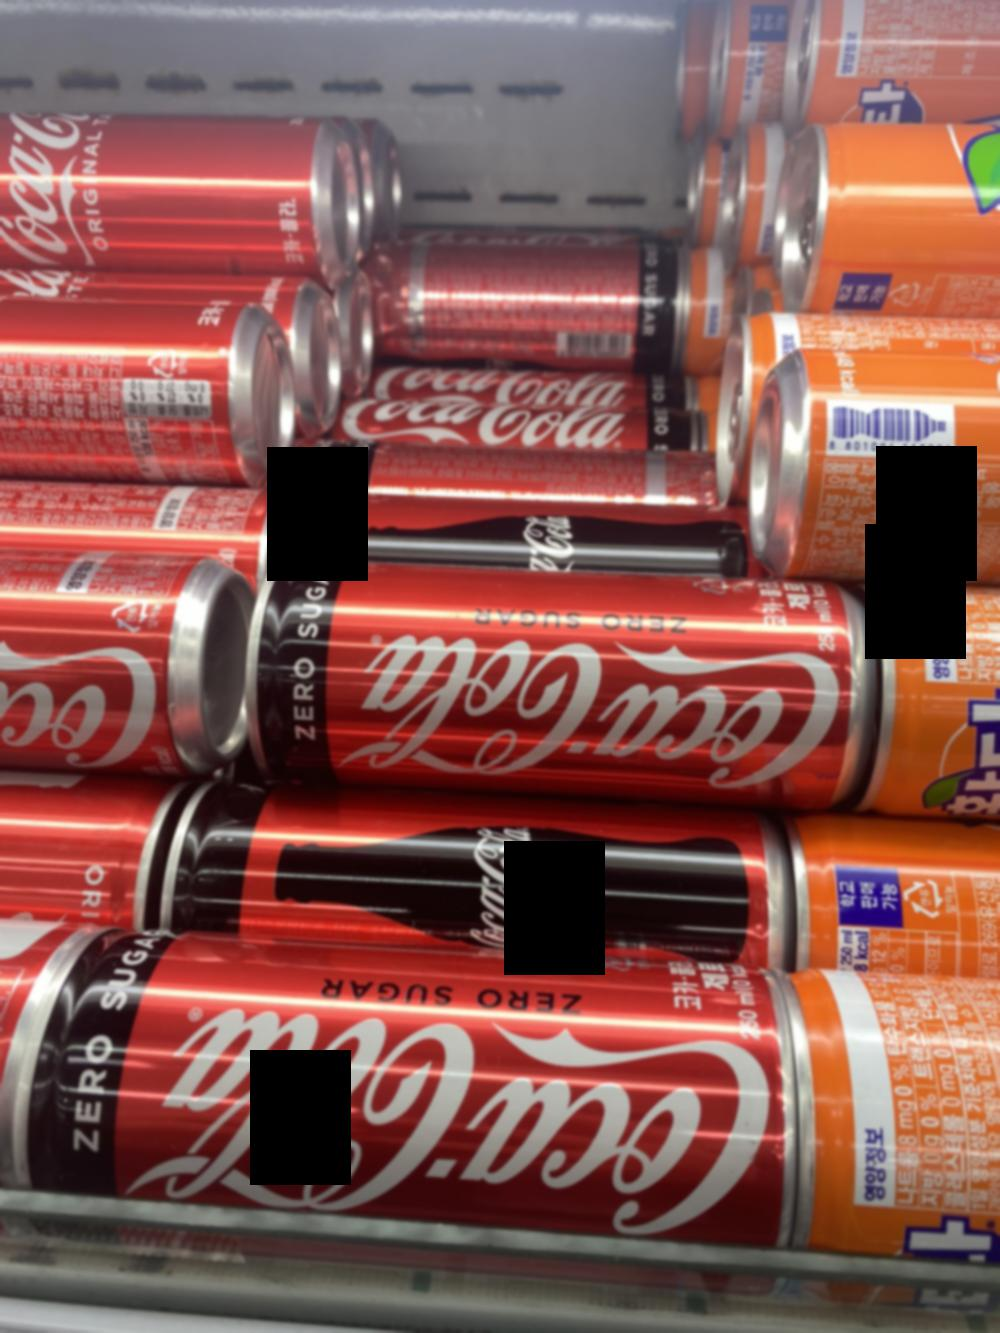cocacola_zero: (5, 931, 795, 1216), (245, 564, 875, 790)
